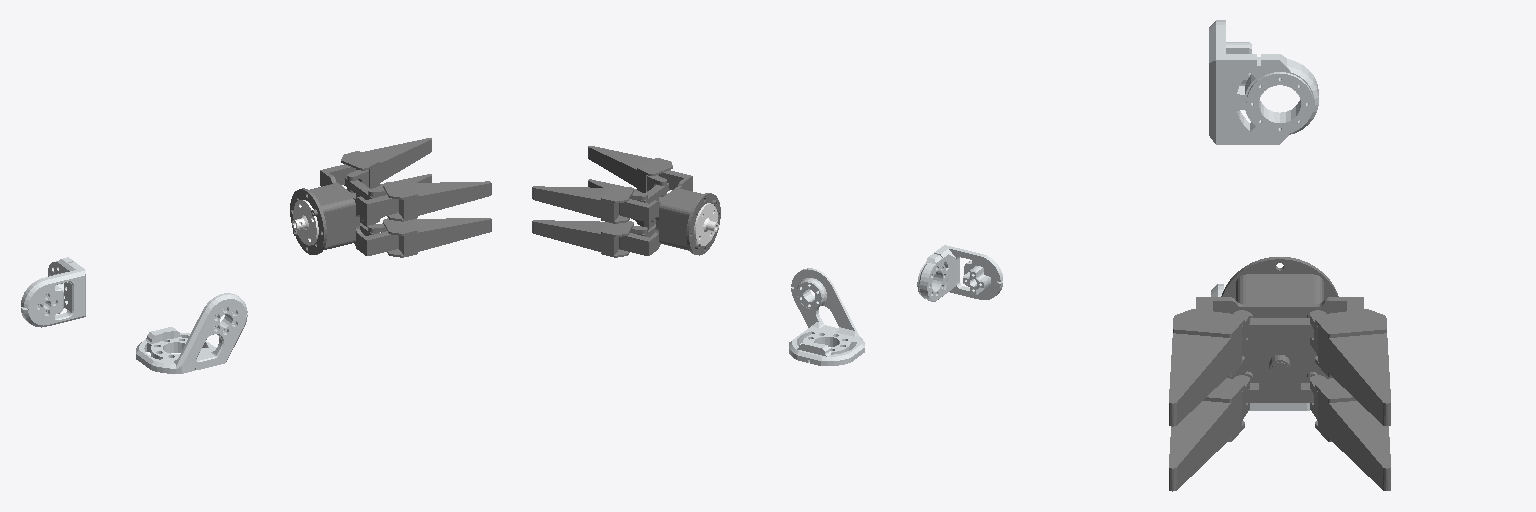
robot.urdf — classic:
<?xml version="1.0" encoding="utf-8" ?>
<!-- This URDF was automatically created by SolidWorks to URDF Exporter! Originally created by [author] ([email redacted]) 
     Commit Version: 1.6.0-4-g7f85cfe  Build Version: 1.6.7995.38578
     For more information, please see http://wiki.ros.org/sw_urdf_exporter -->
<robot name="classic">
    <link name="base_link">
        <inertial>
            <origin xyz="-0.00489 -0.00769 0.02194" rpy="0 0 0" />
            <mass value="1.81223" />
            <inertia ixx="0.01365" ixy="-1.999E-09" ixz="4.6027E-10" iyy="0.01399" iyz="-1.1638E-05" izz="0.02383" />
        </inertial>
        <visual>
            <origin xyz="0 0 0" rpy="0 0 0" />
            <geometry>
                <mesh filename="package://classic/meshes/base_link.STL" />
            </geometry>
            <material name="">
                <color rgba="0.69804 0.69804 0.69804 1" />
            </material>
        </visual>
        <collision>
            <origin xyz="0 0 0" rpy="0 0 0" />
            <geometry>
                <mesh filename="package://classic/meshes/base_link.STL" />
            </geometry>
        </collision>
    </link>
    <link name="link1">
        <inertial>
            <origin xyz="0.0094883 -0.010199 0.0069062" rpy="0 0 0" />
            <mass value="0.10626" />
            <inertia ixx="7.5784E-05" ixy="1.7647E-05" ixz="-2.0511E-05" iyy="7.4079E-05" iyz="1.9786E-05" izz="8.7322E-05" />
        </inertial>
        <visual>
            <origin xyz="0 0 0" rpy="0 0 0" />
            <geometry>
                <mesh filename="package://classic/meshes/link1.STL" />
            </geometry>
            <material name="">
                <color rgba="0.89804 0.91765 0.92941 1" />
            </material>
        </visual>
        <collision>
            <origin xyz="0 0 0" rpy="0 0 0" />
            <geometry>
                <mesh filename="package://classic/meshes/link1.STL" />
            </geometry>
        </collision>
    </link>
    <joint name="joint1" type="revolute">
        <origin xyz="0.036895 -0.0080138 0.09598" rpy="0 0 0" />
        <parent link="base_link" />
        <child link="link1" />
        <axis xyz="0 0 -1" />
        <limit lower="-3.1416" upper="3.1416" effort="0" velocity="0" />
    </joint>
    <link name="link2">
        <inertial>
            <origin xyz="0.090941 0.015275 0.005885" rpy="0 0 0" />
            <mass value="0.97675" />
            <inertia ixx="0.00075" ixy="-0.00067" ixz="2.8459E-05" iyy="0.00313" iyz="4.2775E-05" izz="0.00337" />
        </inertial>
        <visual>
            <origin xyz="0 0 0" rpy="0 0 0" />
            <geometry>
                <mesh filename="package://classic/meshes/link2.STL" />
            </geometry>
            <material name="">
                <color rgba="0.89804 0.91765 0.92941 1" />
            </material>
        </visual>
        <collision>
            <origin xyz="0 0 0" rpy="0 0 0" />
            <geometry>
                <mesh filename="package://classic/meshes/link2.STL" />
            </geometry>
        </collision>
    </link>
    <joint name="joint2" type="revolute">
        <origin xyz="0.03 0 0.032" rpy="1.5708 0 3.1416" />
        <parent link="link1" />
        <child link="link2" />
        <axis xyz="0 0 1" />
        <limit lower="0" upper="3.1416" effort="0" velocity="0" />
    </joint>
    <link name="link3">
        <inertial>
            <origin xyz="-2.6431E-05 0.020091 -0.019056" rpy="0 0 0" />
            <mass value="0.085074" />
            <inertia ixx="4.4693E-05" ixy="3.5152E-08" ixz="2.0362E-08" iyy="2.816E-05" iyz="-1.0963E-05" izz="4.1603E-05" />
        </inertial>
        <visual>
            <origin xyz="0 0 0" rpy="0 0 0" />
            <geometry>
                <mesh filename="package://classic/meshes/link3.STL" />
            </geometry>
            <material name="">
                <color rgba="0.89804 0.91765 0.92941 1" />
            </material>
        </visual>
        <collision>
            <origin xyz="0 0 0" rpy="0 0 0" />
            <geometry>
                <mesh filename="package://classic/meshes/link3.STL" />
            </geometry>
        </collision>
    </link>
    <joint name="joint3" type="revolute">
        <origin xyz="0.17657 0.056569 0" rpy="0 0 1.5708" />
        <parent link="link2" />
        <child link="link3" />
        <axis xyz="0 0 -1" />
        <limit lower="0" upper="4.1888" effort="0" velocity="0" />
    </joint>
    <link name="link4">
        <inertial>
            <origin xyz="0.00029234 0.0092979 0.044414" rpy="0 0 0" />
            <mass value="0.44827" />
            <inertia ixx="0.00020054" ixy="4.3052E-07" ixz="1.2701E-06" iyy="0.00019099" iyz="-4.0474E-05" izz="7.9991E-05" />
        </inertial>
        <visual>
            <origin xyz="0 0 0" rpy="0 0 0" />
            <geometry>
                <mesh filename="package://classic/meshes/link4.STL" />
            </geometry>
            <material name="">
                <color rgba="0.89804 0.91765 0.92941 1" />
            </material>
        </visual>
        <collision>
            <origin xyz="0 0 0" rpy="0 0 0" />
            <geometry>
                <mesh filename="package://classic/meshes/link4.STL" />
            </geometry>
        </collision>
    </link>
    <joint name="joint4" type="revolute">
        <origin xyz="0 0.042 0" rpy="-1.5708 0 0" />
        <parent link="link3" />
        <child link="link4" />
        <axis xyz="0 0 1" />
        <limit lower="-3.1416" upper="3.1416" effort="0" velocity="0" />
    </joint>
    <link name="link5">
        <inertial>
            <origin xyz="-9.2448E-05 0.048973 0.0039836" rpy="0 0 0" />
            <mass value="0.61773" />
            <inertia ixx="0.00105" ixy="-2.5939E-07" ixz="1.5888E-07" iyy="0.00021" iyz="-3.461E-05" izz="0.00106" />
        </inertial>
        <visual>
            <origin xyz="0 0 0" rpy="0 0 0" />
            <geometry>
                <mesh filename="package://classic/meshes/link5.STL" />
            </geometry>
            <material name="">
                <color rgba="0.79216 0.81961 0.93333 1" />
            </material>
        </visual>
        <collision>
            <origin xyz="0 0 0" rpy="0 0 0" />
            <geometry>
                <mesh filename="package://classic/meshes/link5.STL" />
            </geometry>
        </collision>
    </link>
    <joint name="joint5" type="revolute">
        <origin xyz="0 0 0.0995" rpy="1.5708 0 0" />
        <parent link="link4" />
        <child link="link5" />
        <axis xyz="0 0 -1" />
        <limit lower="-1.5708" upper="1.5708" effort="0" velocity="0" />
    </joint>
    <link name="link6">
        <inertial>
            <origin xyz="-1.1172E-05 -1.8243E-05 0.011087" rpy="0 0 0" />
            <mass value="0.00772" />
            <inertia ixx="2.6057E-07" ixy="9.0682E-11" ixz="-2.105E-10" iyy="2.6066E-07" iyz="-3.4372E-10" izz="4.8709E-07" />
        </inertial>
        <visual>
            <origin xyz="0 0 0" rpy="0 0 0" />
            <geometry>
                <mesh filename="package://classic/meshes/link6.STL" />
            </geometry>
            <material name="">
                <color rgba="1 1 1 1" />
            </material>
        </visual>
        <collision>
            <origin xyz="0 0 0" rpy="0 0 0" />
            <geometry>
                <mesh filename="package://classic/meshes/link6.STL" />
            </geometry>
        </collision>
    </link>
    <joint name="joint6" type="revolute">
        <origin xyz="0 0.1205 0" rpy="-1.5708 0 0" />
        <parent link="link5" />
        <child link="link6" />
        <axis xyz="0 0 1" />
        <limit lower="-3.1416" upper="3.1416" effort="0" velocity="0" />
    </joint>
    <link name="moduan">
        <inertial>
            <origin xyz="-3.791E-09 -3.778E-08 -0.076504" rpy="0 0 0" />
            <mass value="0.2211" />
            <inertia ixx="9.2119E-05" ixy="5.3942E-09" ixz="-1.9202E-11" iyy="7.2166E-05" iyz="-2.2102E-11" izz="6.0885E-05" />
        </inertial>
        <visual>
            <origin xyz="0 0 0" rpy="0 0 0" />
            <geometry>
                <mesh filename="package://classic/meshes/moduan.STL" />
            </geometry>
            <material name="">
                <color rgba="0.56471 0.56471 0.56471 1" />
            </material>
        </visual>
        <collision>
            <origin xyz="0 0 0" rpy="0 0 0" />
            <geometry>
                <mesh filename="package://classic/meshes/moduan.STL" />
            </geometry>
        </collision>
    </link>
    <joint name="joint7" type="fixed">
        <origin xyz="0 0 0.15318" rpy="0 0 0" />
        <parent link="link6" />
        <child link="moduan" />
        <axis xyz="0 0 0" />
    </joint>
    <transmission name="trans_joint1">
        <type>transmission_interface/SimpleTransmission</type>
        <joint name="joint1">
            <hardwareInterface>hardware_interface/EffortJointInterface</hardwareInterface>
        </joint>
        <actuator name="joint1_motor">
            <hardwareInterface>hardware_interface/EffortJointInterface</hardwareInterface>
            <mechanicalReduction>1</mechanicalReduction>
        </actuator>
    </transmission>
    <transmission name="trans_joint2">
        <type>transmission_interface/SimpleTransmission</type>
        <joint name="joint2">
            <hardwareInterface>hardware_interface/EffortJointInterface</hardwareInterface>
        </joint>
        <actuator name="joint2_motor">
            <hardwareInterface>hardware_interface/EffortJointInterface</hardwareInterface>
            <mechanicalReduction>1</mechanicalReduction>
        </actuator>
    </transmission>
    <transmission name="trans_joint3">
        <type>transmission_interface/SimpleTransmission</type>
        <joint name="joint3">
            <hardwareInterface>hardware_interface/EffortJointInterface</hardwareInterface>
        </joint>
        <actuator name="joint3_motor">
            <hardwareInterface>hardware_interface/EffortJointInterface</hardwareInterface>
            <mechanicalReduction>1</mechanicalReduction>
        </actuator>
    </transmission>
    <transmission name="trans_joint4">
        <type>transmission_interface/SimpleTransmission</type>
        <joint name="joint4">
            <hardwareInterface>hardware_interface/EffortJointInterface</hardwareInterface>
        </joint>
        <actuator name="joint4_motor">
            <hardwareInterface>hardware_interface/EffortJointInterface</hardwareInterface>
            <mechanicalReduction>1</mechanicalReduction>
        </actuator>
    </transmission>
    <transmission name="trans_joint5">
        <type>transmission_interface/SimpleTransmission</type>
        <joint name="joint5">
            <hardwareInterface>hardware_interface/EffortJointInterface</hardwareInterface>
        </joint>
        <actuator name="joint5_motor">
            <hardwareInterface>hardware_interface/EffortJointInterface</hardwareInterface>
            <mechanicalReduction>1</mechanicalReduction>
        </actuator>
    </transmission>
    <transmission name="trans_joint6">
        <type>transmission_interface/SimpleTransmission</type>
        <joint name="joint6">
            <hardwareInterface>hardware_interface/EffortJointInterface</hardwareInterface>
        </joint>
        <actuator name="joint6_motor">
            <hardwareInterface>hardware_interface/EffortJointInterface</hardwareInterface>
            <mechanicalReduction>1</mechanicalReduction>
        </actuator>
    </transmission>
    <gazebo>
        <plugin name="gazebo_ros_control">
            <robotNamespace>/</robotNamespace>
        </plugin>
    </gazebo>
</robot>

--- Facts derived from the render (not from the file) ---
The picture shows the robot from 3 angles, left to right: view 1: azimuth 30°, elevation 25°; view 2: azimuth 150°, elevation 25°; view 3: azimuth 270°, elevation 25°; orthographic projection.
Robot: classic — 8 links, 7 joints (6 revolute, 1 fixed); root link base_link; default pose: all joints at 0.
Visible links, largest first — view 1: moduan, link1, link3, link6; view 2: moduan, link1, link3, link6; view 3: moduan, link3, link1.
Boxes of the visible links, x1,y1,x2,y2 form: moduan: (290,138,491,257); link1: (136,293,247,373); link3: (21,257,85,327); link6: (292,200,318,245); moduan: (532,146,720,257); link1: (789,268,864,365); link3: (917,245,1002,301); link6: (694,203,718,245); moduan: (1169,257,1390,491); link3: (1209,20,1318,144); link1: (1211,284,1309,410).
Bounding box of the posed robot: 0.4492 × 0.1055 × 0.1276 m (x, y, z).
4 mesh visuals loaded from 8 distinct referenced files (4 binary STL); not drawn: 4 (reference not matched to a file when rendering).